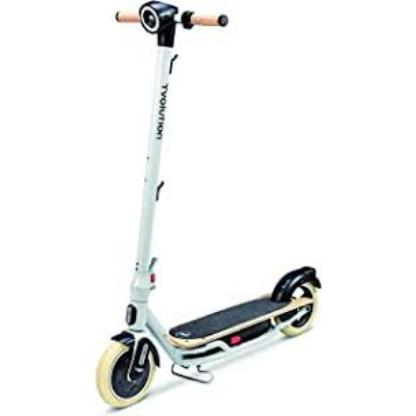bike: (92, 1, 323, 412)
